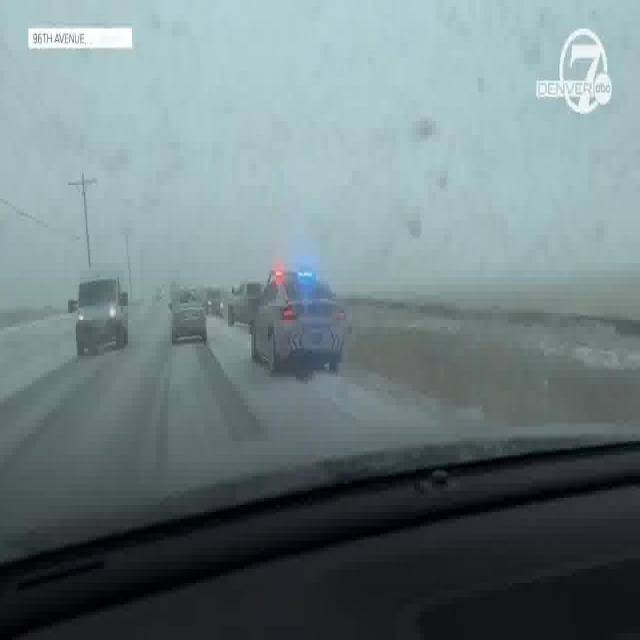Car: (71, 266, 130, 358), (169, 286, 208, 348), (226, 274, 260, 326)
